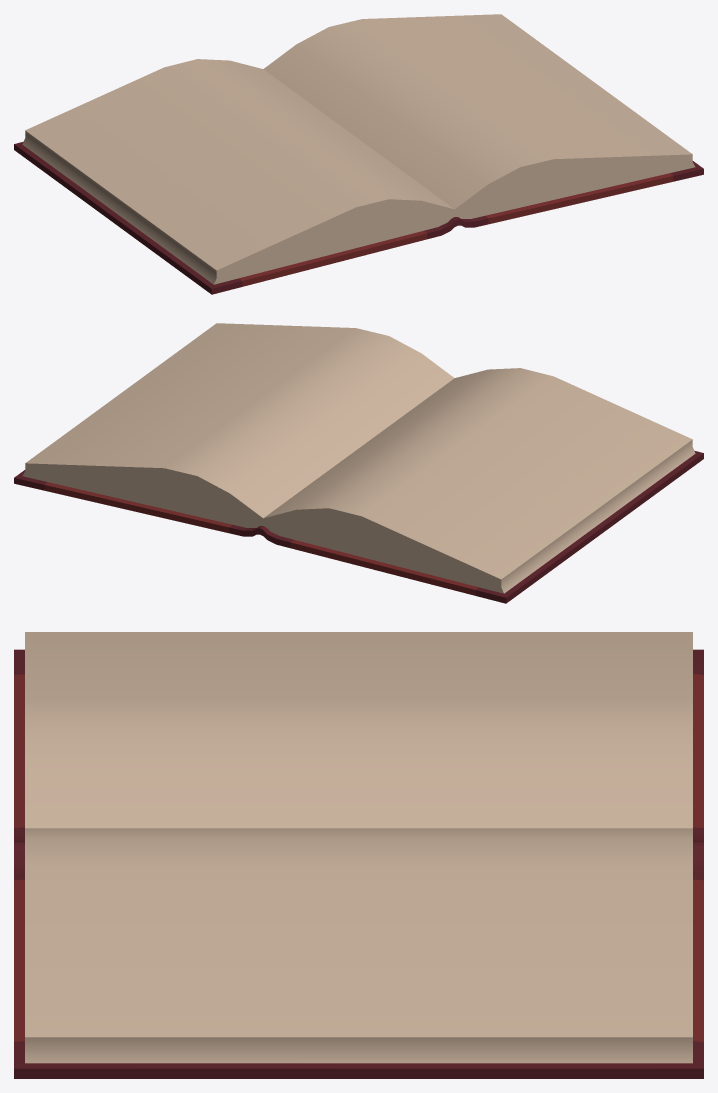
Rendered from Book_11_Open.fbx.
3 views of the same model, one above another, from view 1: azimuth 30°, elevation 25°; view 2: azimuth 150°, elevation 25°; view 3: azimuth 270°, elevation 25° (orthographic). The views are drawn at different scales.
Visible parts, largest first — view 1: Book_11_Open; view 2: Book_11_Open; view 3: Book_11_Open.
Boxes of the visible parts, bbox=[...] form: Book_11_Open: bbox=[14, 14, 703, 294]; Book_11_Open: bbox=[14, 323, 703, 603]; Book_11_Open: bbox=[14, 632, 703, 1078].
Bounding box in the file's own units: 0.4636 × 0.0444 × 0.3226.
